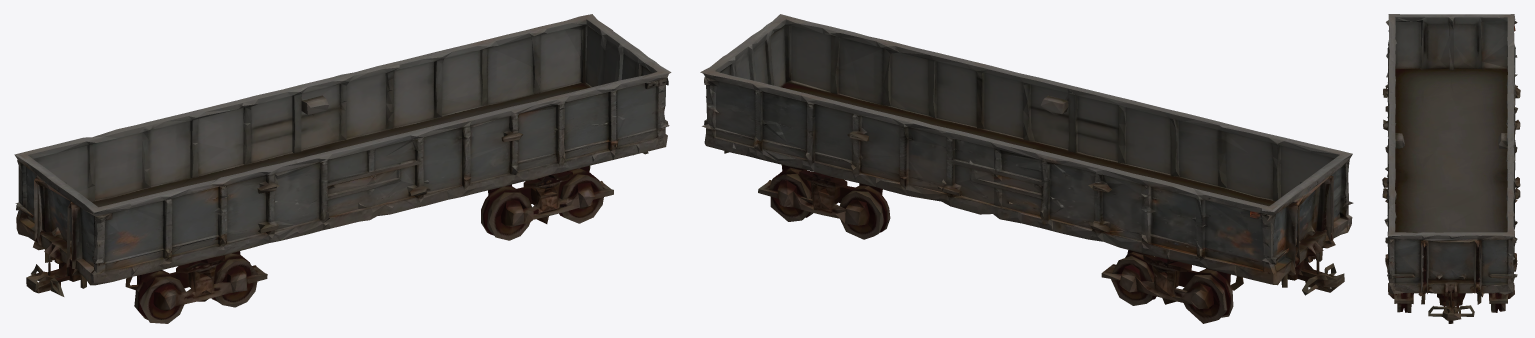
File: gondola_wagon.glb
3 views of the same model, side by side, from view 1: azimuth 30°, elevation 25°; view 2: azimuth 150°, elevation 25°; view 3: azimuth 270°, elevation 25° (orthographic). The views are drawn at different scales.
Visible parts, largest first — view 1: gondola_wagon; view 2: gondola_wagon; view 3: gondola_wagon.
Part boxes in pixels (bbox=[...]): gondola_wagon: bbox=[14, 14, 671, 323]; gondola_wagon: bbox=[700, 14, 1353, 323]; gondola_wagon: bbox=[1382, 14, 1520, 323].
Size of the model in its own units: 13.5 by 2.82 by 3.29.
Materials: 1 (1 with a texture image).
